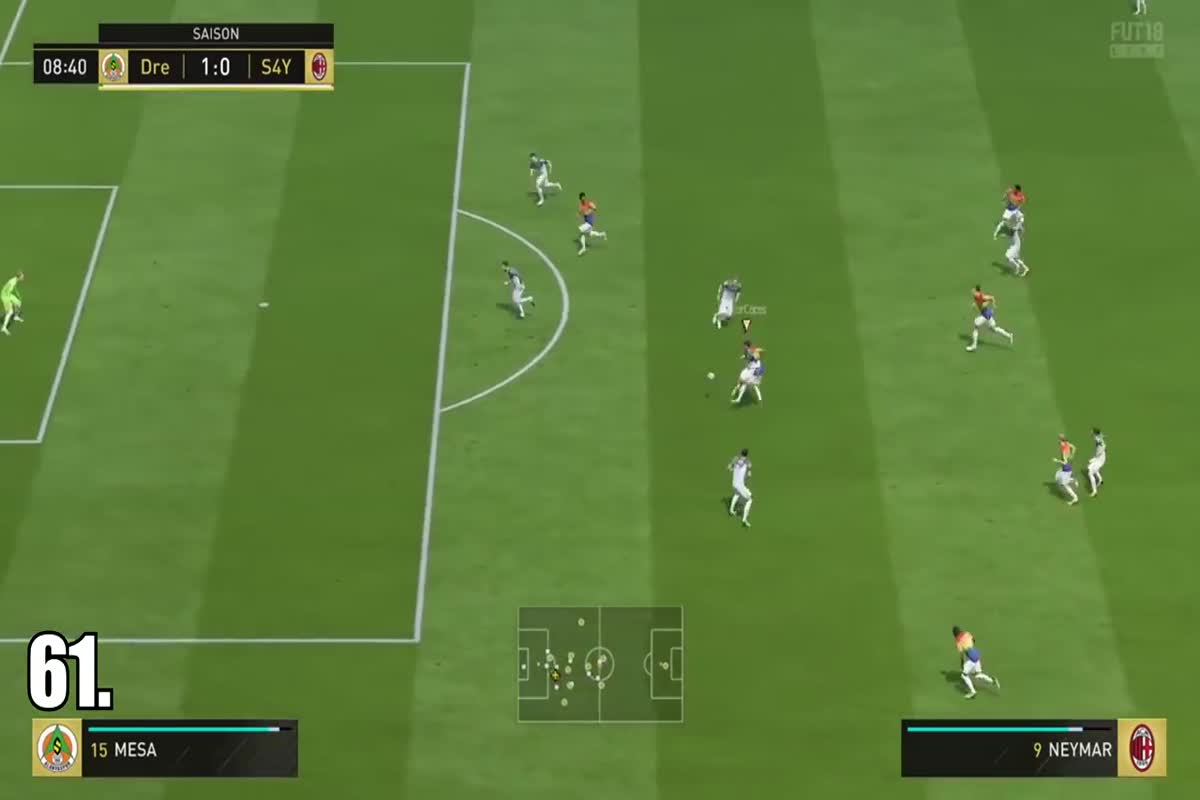ball: (695, 361, 725, 389)
